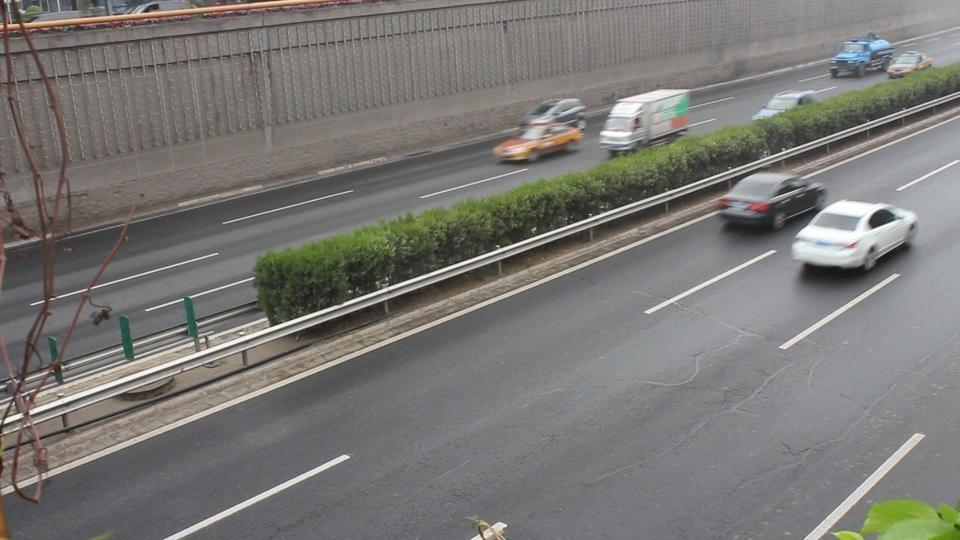car: (790, 198, 919, 272), (714, 171, 830, 232), (598, 88, 693, 154), (490, 123, 584, 163), (828, 38, 895, 78), (751, 88, 833, 120), (518, 98, 589, 132), (885, 52, 934, 79)
